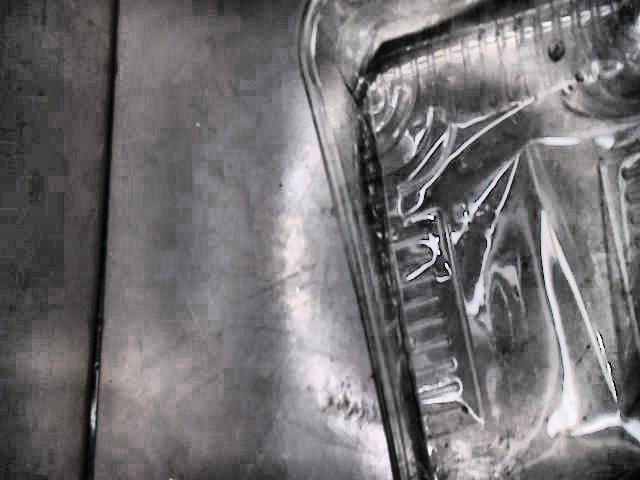Plastic: (295, 0, 640, 480)
